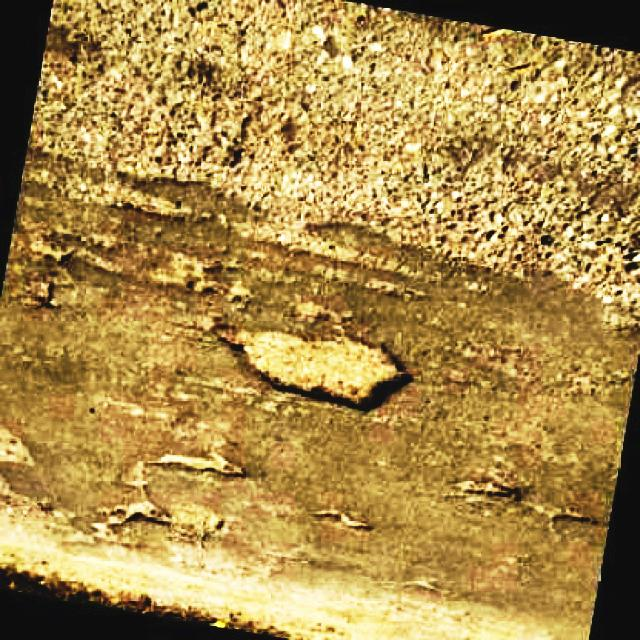pothole: (223, 326, 414, 412), (122, 452, 246, 532)
